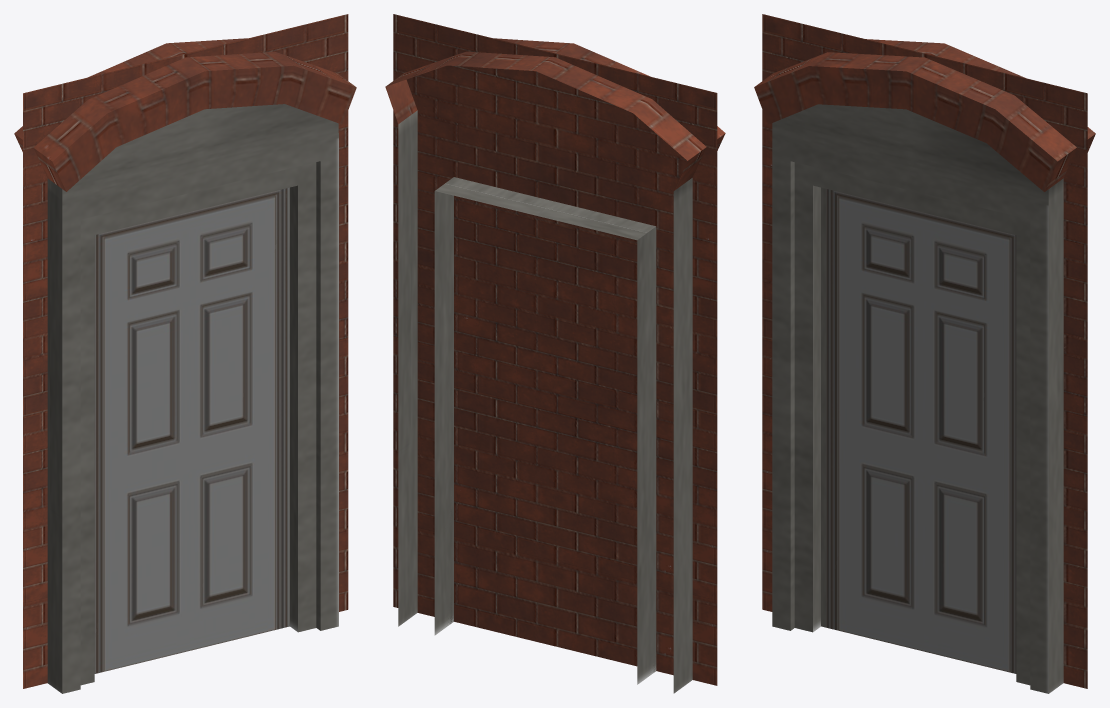
File: Door.fbx
3 renders of one model, left to right at view 1: azimuth 30°, elevation 25°; view 2: azimuth 150°, elevation 25°; view 3: azimuth 330°, elevation 25°, orthographic.
Parts seen in each view (by area): view 1: Brick_DOOR_TWO_BY_THREE1; view 2: Brick_DOOR_TWO_BY_THREE1; view 3: Brick_DOOR_TWO_BY_THREE1.
Boxes of the visible parts, x1,y1,x2,y2 form: Brick_DOOR_TWO_BY_THREE1: (14, 14, 356, 693); Brick_DOOR_TWO_BY_THREE1: (385, 14, 725, 693); Brick_DOOR_TWO_BY_THREE1: (754, 14, 1095, 693).
Size of the model in its own units: 2 by 3.5 by 0.4109.
